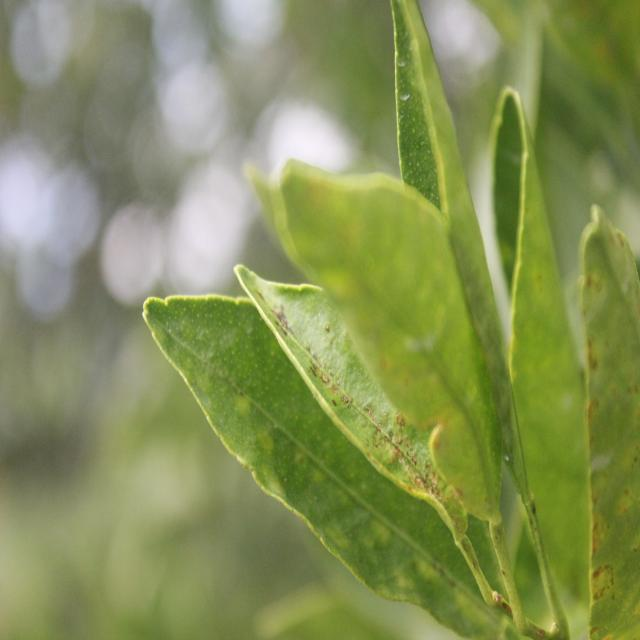canker: (264, 276, 478, 548), (558, 215, 640, 632)
